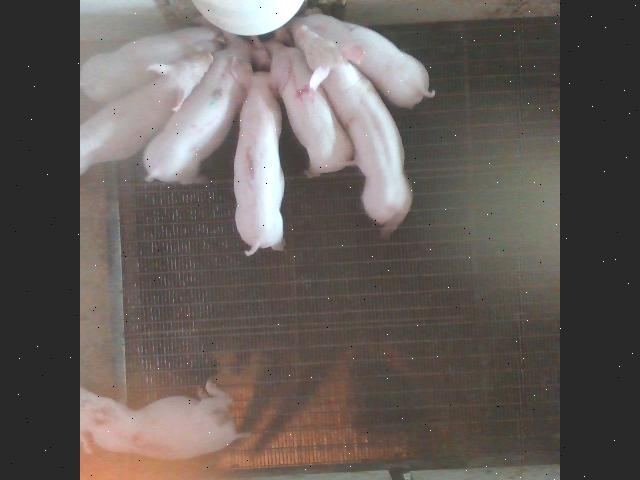pig-1: (231, 55, 290, 255)
pig-3: (82, 380, 250, 458)
pig-4: (266, 24, 354, 174)
